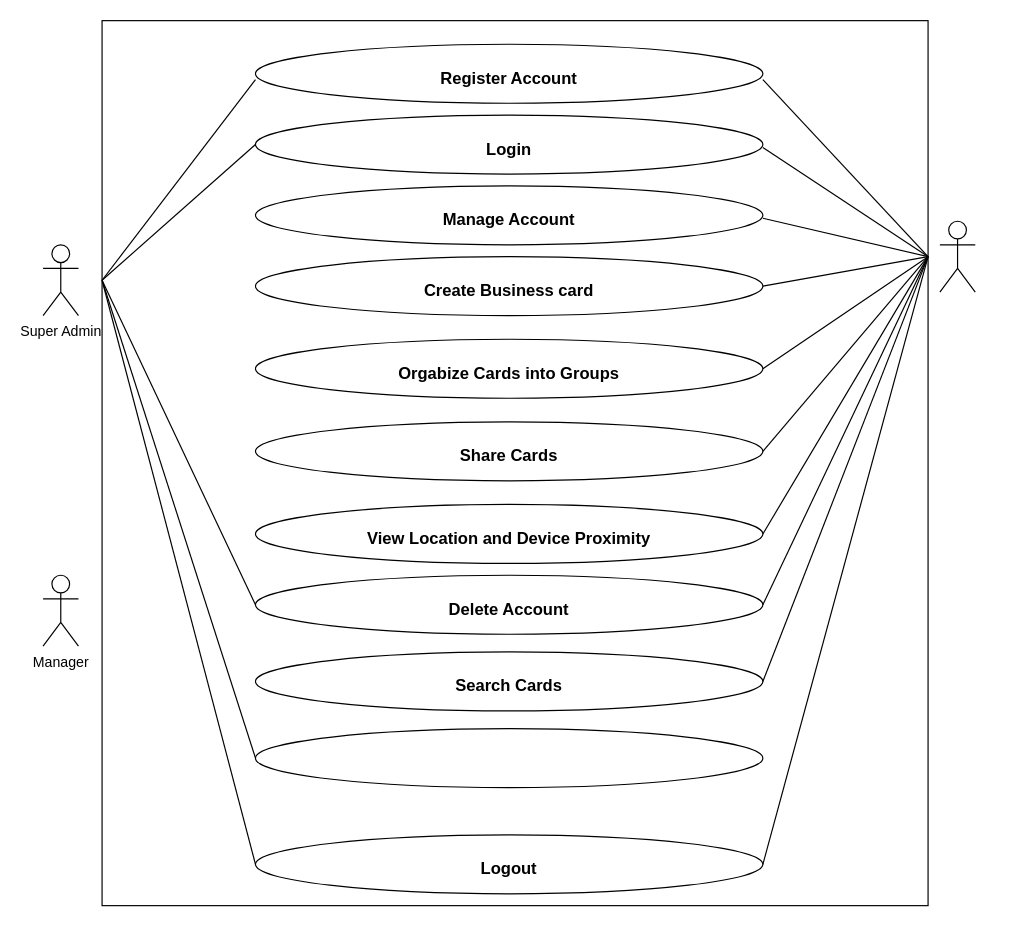
Image size: 1009x926. Some labels were removed from this diagram. The centre of each missing label's shape, as x and y in pixels:
Customer: pixel 957 256
Manage User Accounts: pixel 508 757
